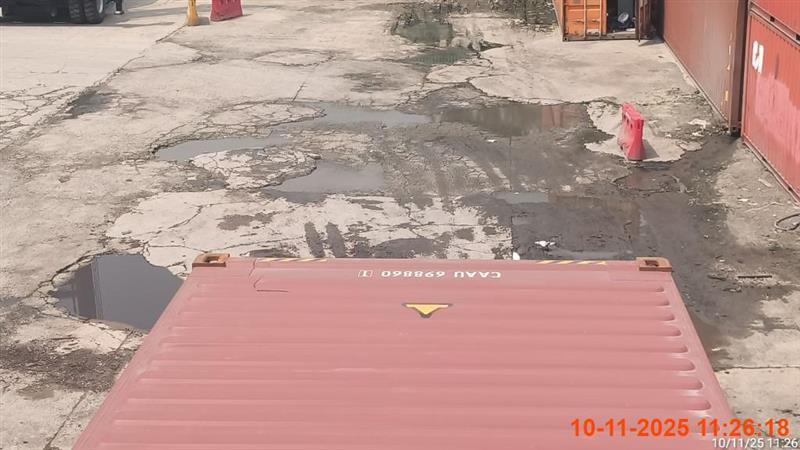broken: (73, 250, 735, 443)
